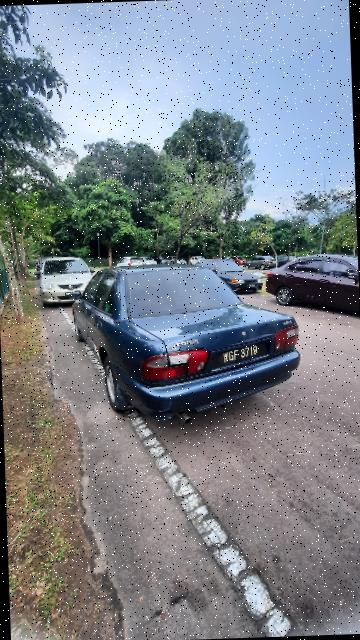License_Plate: (212, 337, 275, 370)
car: (64, 257, 308, 435)
